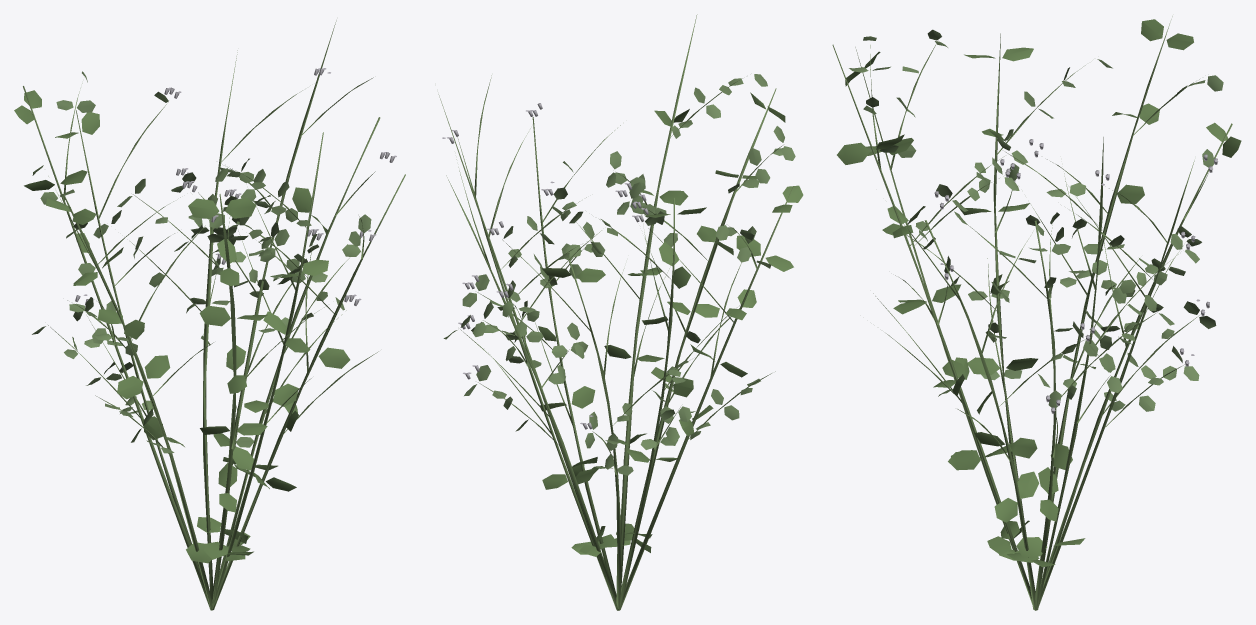
File: Nepita_1_Niveau1.fbx
The picture shows the model from 3 angles, left to right: view 1: azimuth 30°, elevation 25°; view 2: azimuth 150°, elevation 25°; view 3: azimuth 270°, elevation 25°; orthographic projection. The views are drawn at different scales.
Visible parts, largest first — view 1: Nepita_1_Niveau1; view 2: Nepita_1_Niveau1; view 3: Nepita_1_Niveau1.
Part boxes in pixels (<box>): Nepita_1_Niveau1: <box>14,20,405,610</box>; Nepita_1_Niveau1: <box>438,14,803,610</box>; Nepita_1_Niveau1: <box>832,16,1241,610</box>.
Size of the model in its own units: 27.9 by 42.7 by 27.63.
